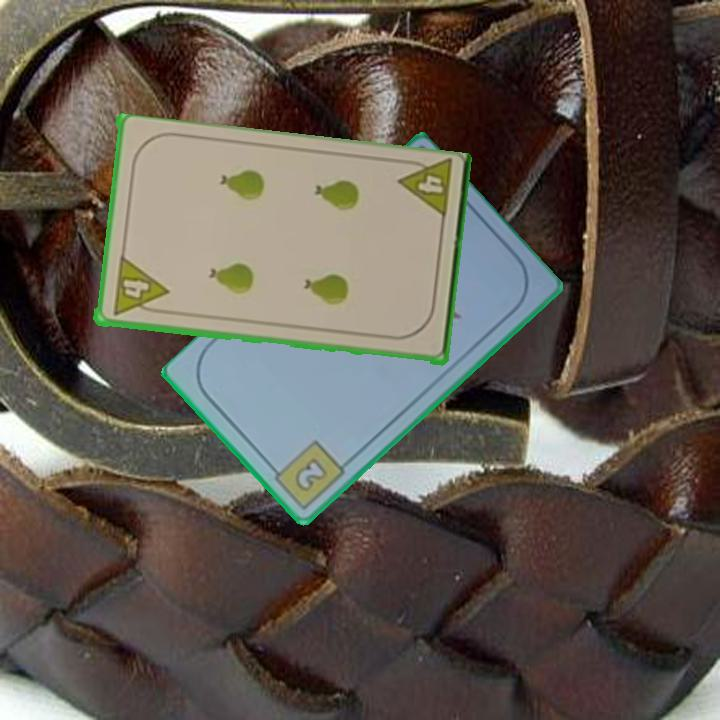2b: (264, 436, 349, 513)
4p: (394, 156, 456, 224), (108, 254, 169, 319)
